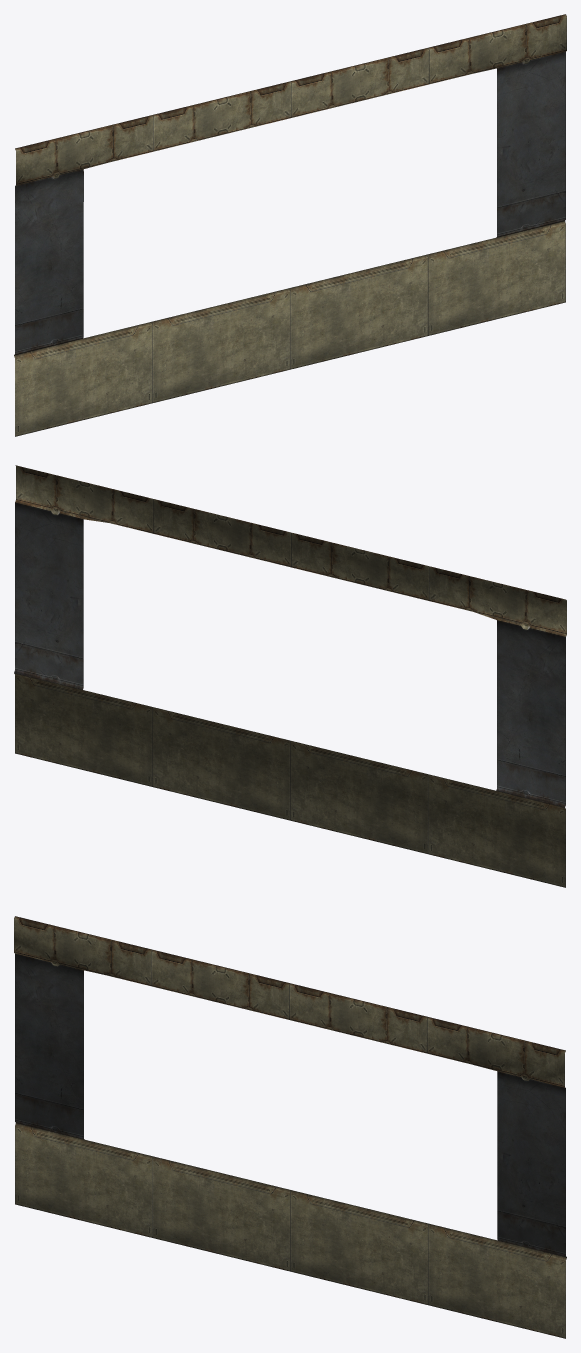
Rendered from datasite_flat01_window_large.dae.
The picture shows the model from 3 angles, top to bottom: view 1: azimuth 30°, elevation 25°; view 2: azimuth 150°, elevation 25°; view 3: azimuth 330°, elevation 25°; orthographic projection.
Visible parts, largest first — view 1: polySurface138; view 2: polySurface138; view 3: polySurface138.
Boxes of the visible parts, box(x1,y1,x2,y2) form: polySurface138: box(14, 14, 566, 436); polySurface138: box(14, 465, 566, 887); polySurface138: box(14, 916, 566, 1338).
Bounding box in the file's own units: 8 × 4 × 0.0483.
Materials: 1 (1 with a texture image).
